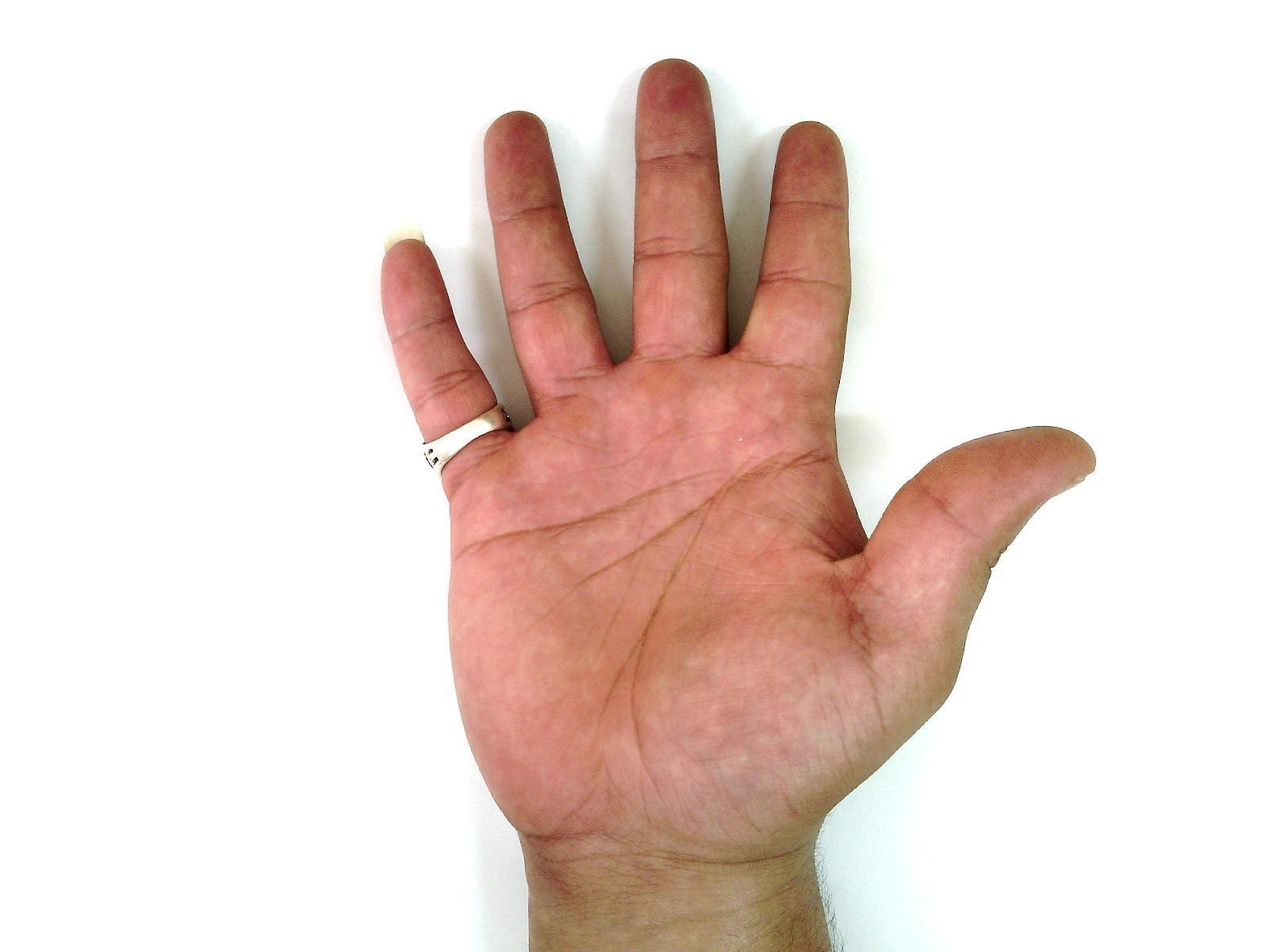open_palm: (376, 56, 1098, 880)
